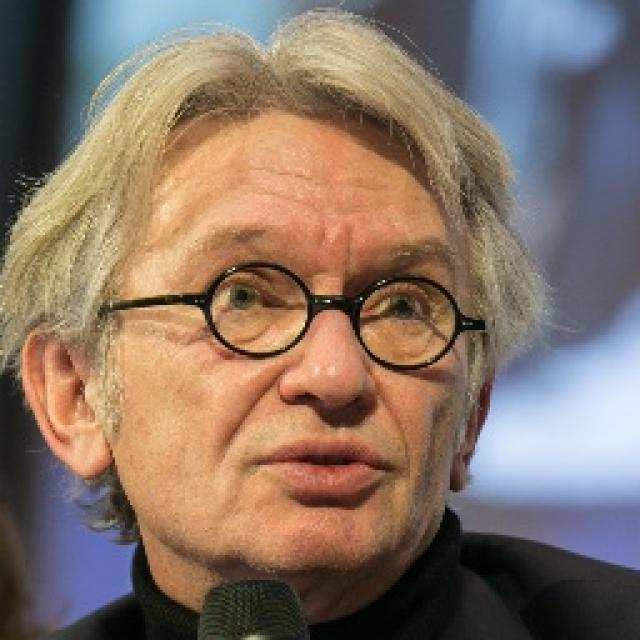earlobe: (70, 420, 116, 480), (446, 442, 473, 494)
eye: (208, 278, 276, 312), (368, 288, 432, 324)
nose: (278, 386, 385, 449)
wholeear: (22, 329, 116, 479), (447, 359, 495, 494)
